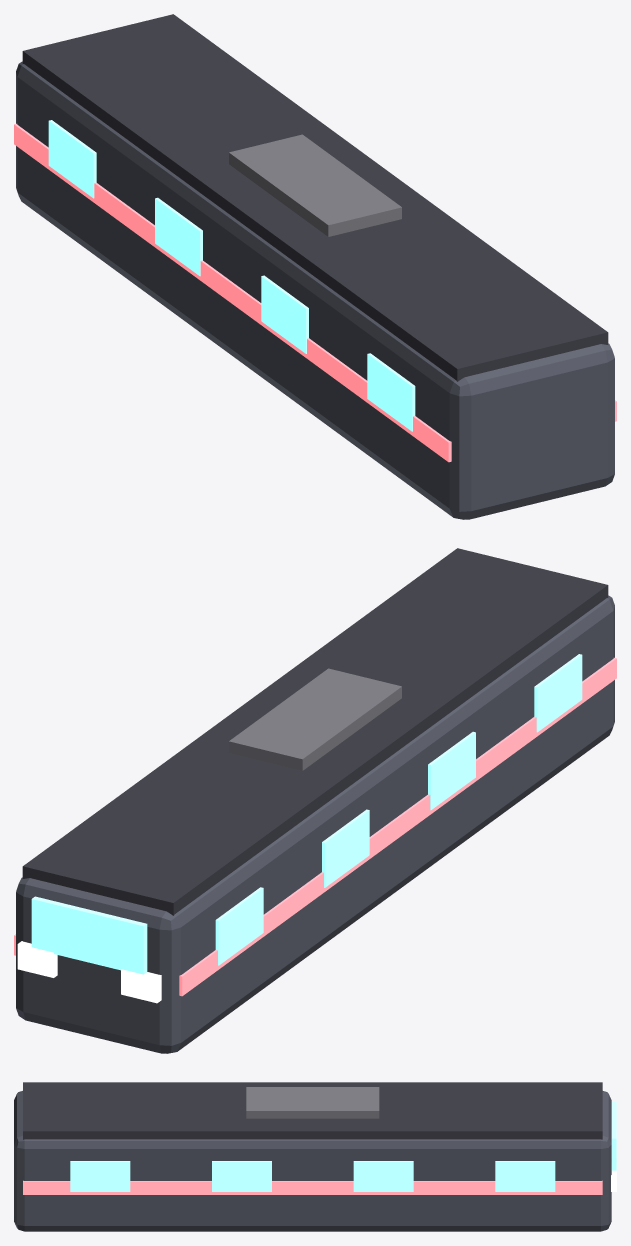
The model's file is obs_train.glb.
3 renders of one model, top to bottom at view 1: azimuth 30°, elevation 25°; view 2: azimuth 150°, elevation 25°; view 3: azimuth 270°, elevation 25°, orthographic. The views are drawn at different scales.
Parts seen in each view (by area): view 1: obs_train; view 2: obs_train; view 3: obs_train.
Boxes of the visible parts, x1=… form: obs_train: x1=14, y1=14, x2=616, y2=519; obs_train: x1=14, y1=548, x2=616, y2=1053; obs_train: x1=14, y1=1082, x2=616, y2=1231.
Bounding box in the file's own units: 1.97 × 1.83 × 9.08.
